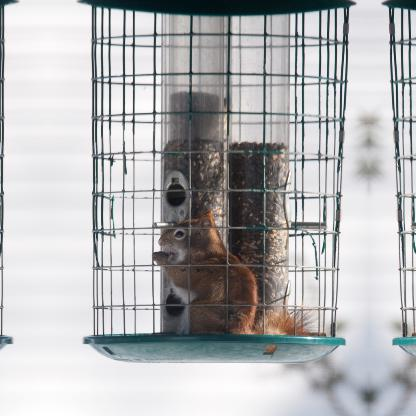Squirrel: (148, 212, 326, 334)
